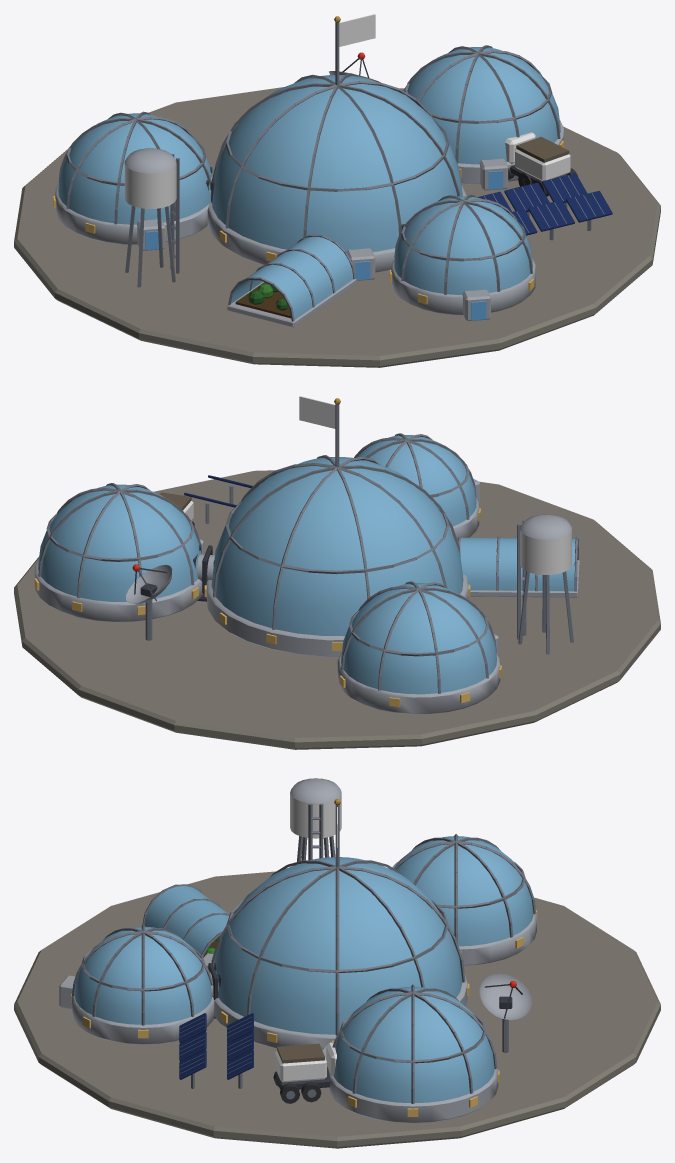
Rendered from settlement.fbx.
3 views of the same model, one above another, from view 1: azimuth 30°, elevation 25°; view 2: azimuth 150°, elevation 25°; view 3: azimuth 270°, elevation 25° (orthographic).
Visible parts, largest first — view 1: settlement; view 2: settlement, settlement__dish; view 3: settlement, settlement__dish.
Part boxes in pixels (box(x1,y1,x2,y2)): settlement: box(14, 14, 660, 367); settlement: box(14, 396, 660, 749); settlement__dish: box(126, 564, 172, 604); settlement: box(14, 778, 660, 1148); settlement__dish: box(479, 973, 531, 1022).
Bounding box in the file's own units: 3 × 1.1 × 3.
